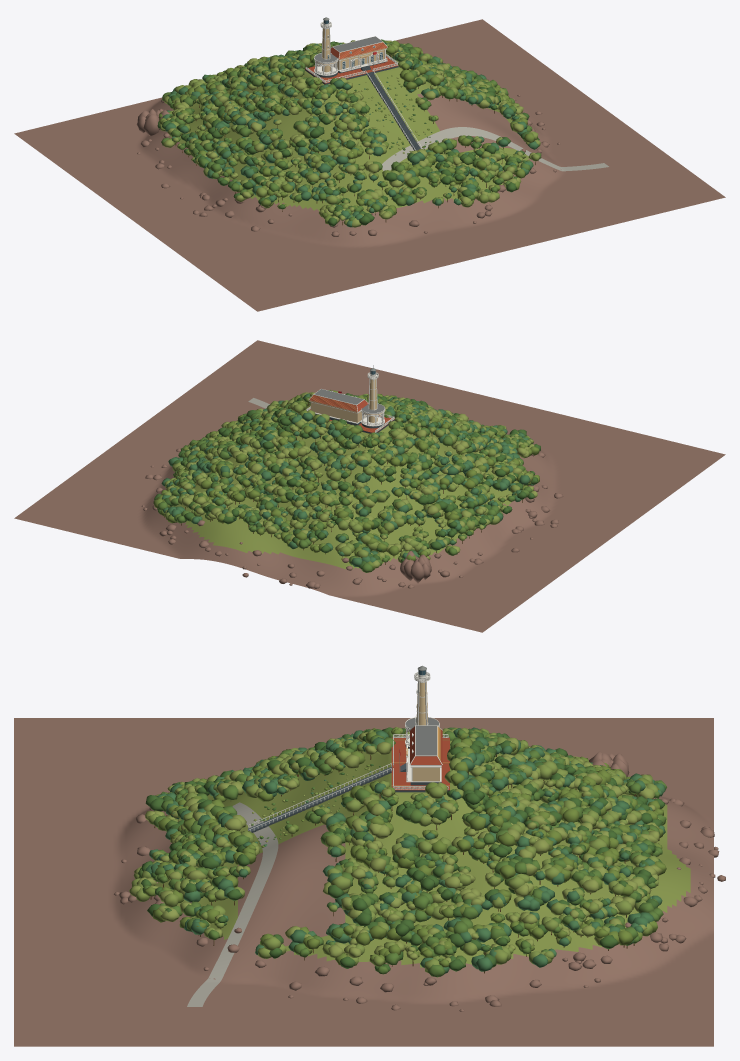
Rendered from vinh_thuc_lighthouse_landscape.glb.
The picture shows the model from 3 angles, top to bottom: view 1: azimuth 30°, elevation 25°; view 2: azimuth 150°, elevation 25°; view 3: azimuth 270°, elevation 25°; orthographic projection. The views are drawn at different scales.
Visible parts, largest first — view 1: Raised courtyard; view 2: Raised courtyard; view 3: Raised courtyard.
Boxes of the visible parts, left/top/right/bottom form: Raised courtyard: left=14, top=17, right=725, bottom=311; Raised courtyard: left=14, top=340, right=725, bottom=632; Raised courtyard: left=14, top=665, right=725, bottom=1046.
Bounding box in the file's own units: 200 × 59.48 × 183.
